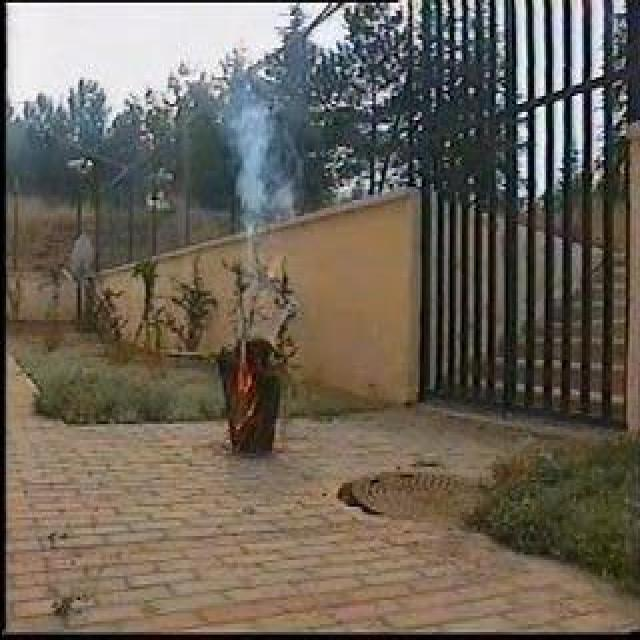fire: (234, 343, 258, 420)
smoke: (226, 80, 294, 259)
